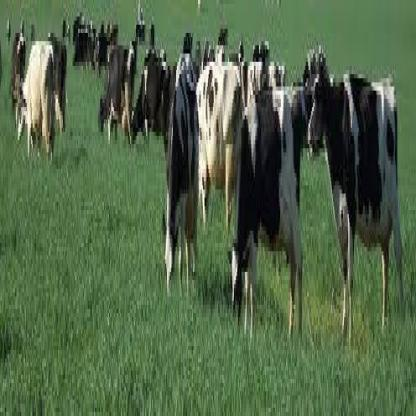cow: (307, 60, 404, 352), (227, 93, 304, 344), (161, 47, 200, 307), (195, 58, 243, 239), (14, 33, 55, 169), (97, 41, 136, 148), (131, 48, 167, 154), (47, 31, 69, 142), (241, 56, 265, 113), (301, 47, 320, 93), (264, 56, 286, 92), (203, 35, 225, 68), (253, 35, 270, 64), (237, 35, 245, 72)
